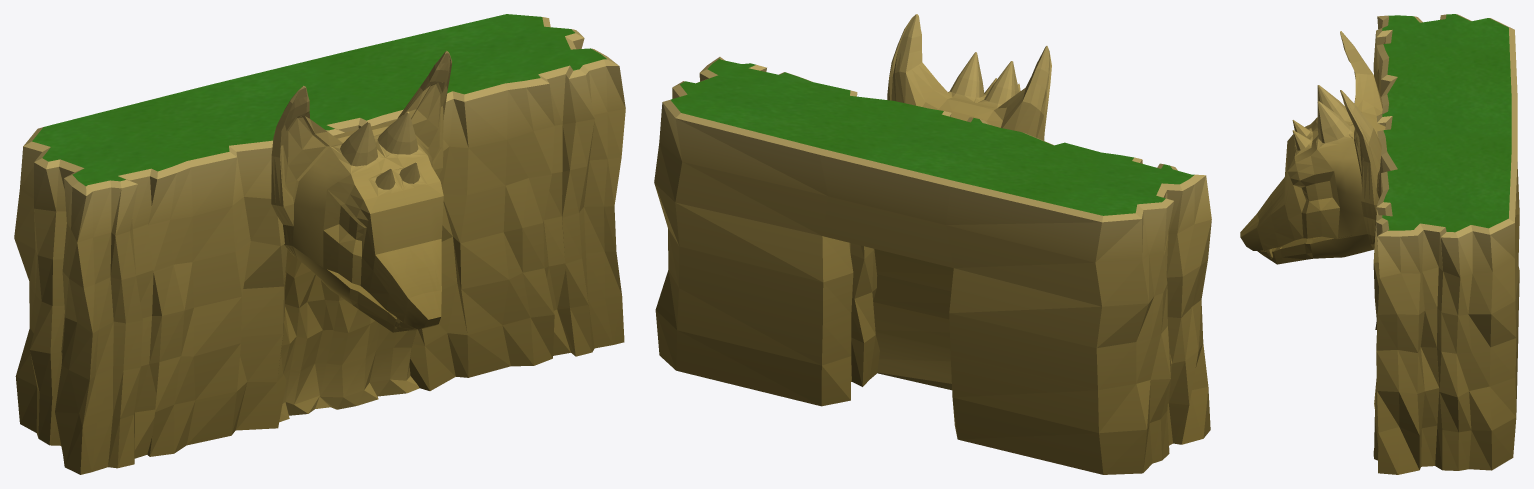
Rendered from AdvancedWolfGate.FBX.
The picture shows the model from 3 angles, left to right: view 1: azimuth 30°, elevation 25°; view 2: azimuth 150°, elevation 25°; view 3: azimuth 270°, elevation 25°; orthographic projection. The views are drawn at different scales.
Visible parts, largest first — view 1: BottomWolfGate002, wolfGate; view 2: BottomWolfGate002, wolfGate; view 3: BottomWolfGate002, wolfGate.
Part boxes in pixels (left/top/right/bottom): BottomWolfGate002: left=14, top=14, right=625, bottom=474; wolfGate: left=279, top=244, right=419, bottom=421; BottomWolfGate002: left=654, top=14, right=1211, bottom=474; wolfGate: left=873, top=249, right=953, bottom=390; BottomWolfGate002: left=1240, top=14, right=1519, bottom=474; wolfGate: left=1257, top=234, right=1374, bottom=264.
Bounding box in the file's own units: 559 × 345 × 290.
